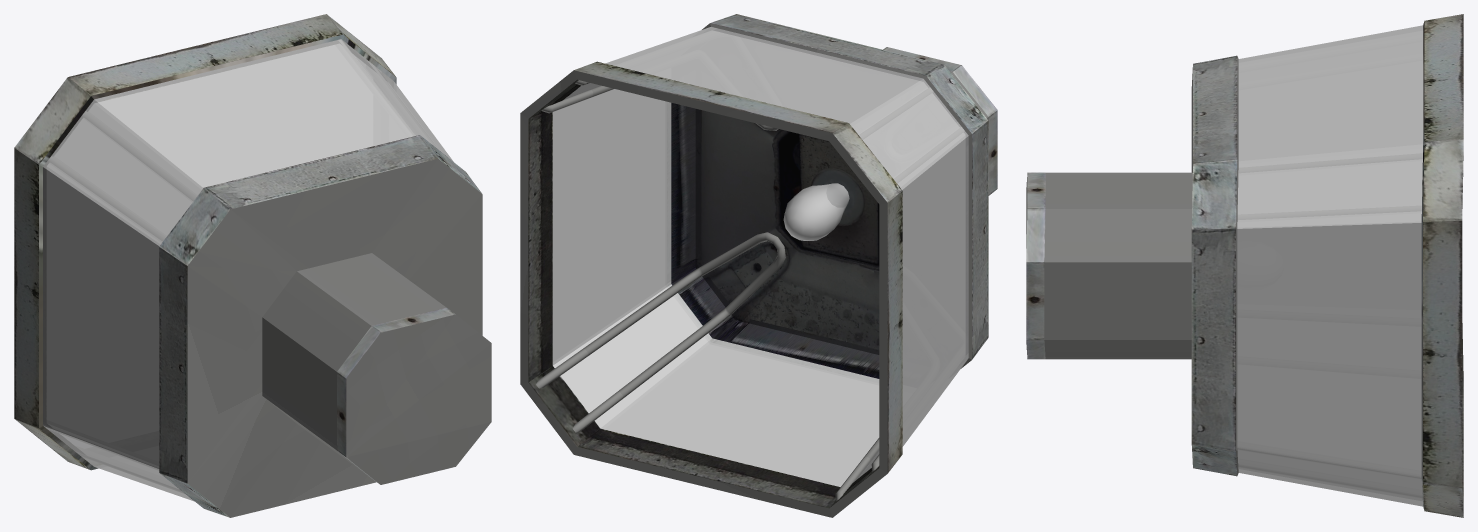
The model's file is Sonderanfertigung.obj.
3 views of the same model, side by side, from view 1: azimuth 30°, elevation 25°; view 2: azimuth 150°, elevation 25°; view 3: azimuth 270°, elevation 25° (orthographic).
Parts seen in each view (by area): view 1: Cylinder, Innenstreben; view 2: Cylinder, Innenstreben, Glühbirne; view 3: Cylinder, Innenstreben.
Part boxes in pixels (left/top/right/bottom): Cylinder: left=14, top=14, right=491, bottom=517; Innenstreben: left=43, top=40, right=437, bottom=493; Cylinder: left=520, top=14, right=997, bottom=517; Innenstreben: left=536, top=80, right=963, bottom=501; Glühbirne: left=783, top=183, right=849, bottom=240; Cylinder: left=1026, top=14, right=1463, bottom=517; Innenstreben: left=1238, top=154, right=1422, bottom=497.
Size of the model in its own units: 0.4817 by 0.4817 by 0.5036.
4 materials, 3 textured.
